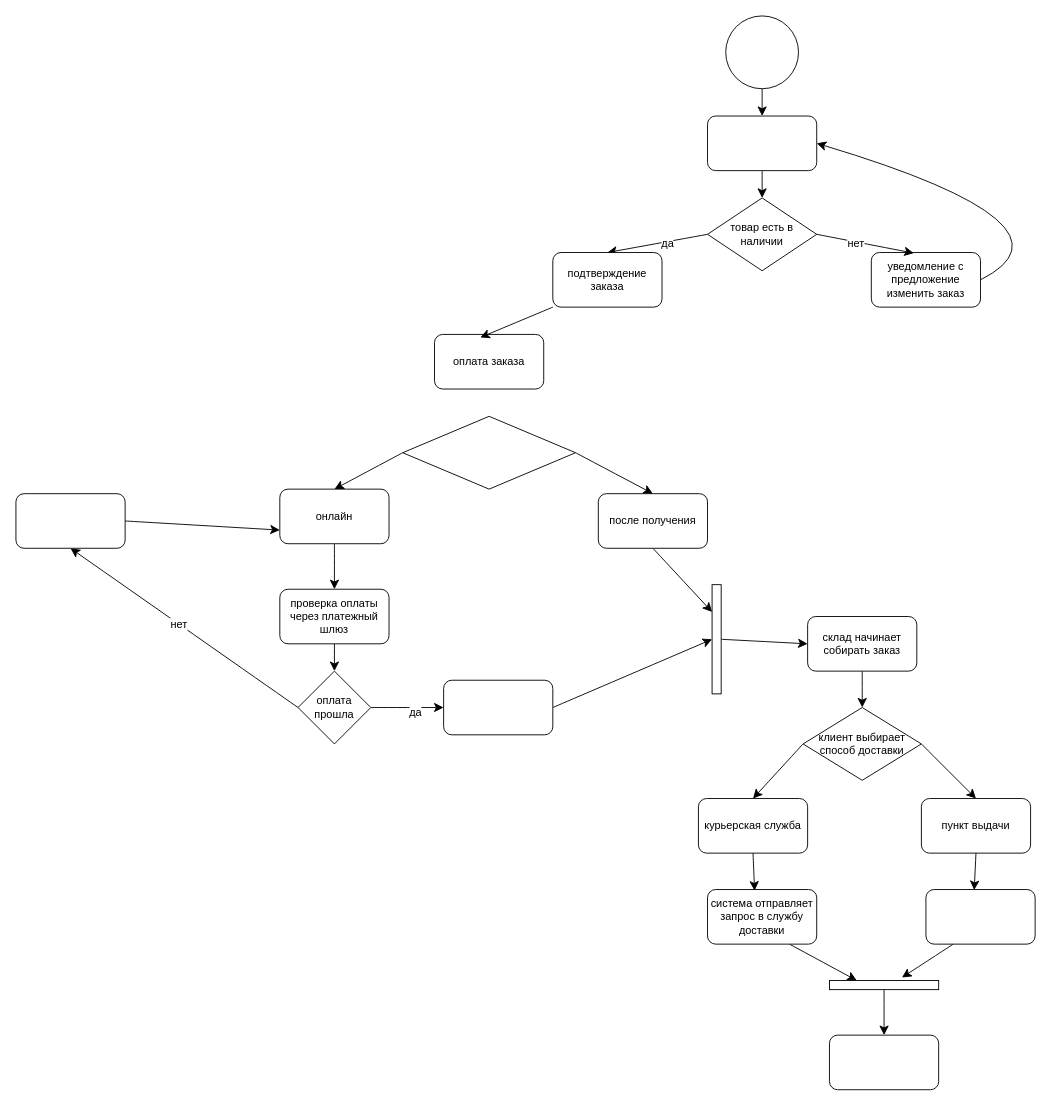
The diagram is 1051 pixels wide and 1106 high, and some of its shapes have lost their labels. Here are the shapes that lost their labels. From the top down, the box of each, then its label:
(707, 115, 817, 171): клиент создает заказ
(402, 415, 576, 489): клиент выбирает способ оплаты
(15, 493, 125, 548): отправляется уведомление с предложением повторить платеж
(443, 679, 553, 735): оплата прошла успешно
(925, 889, 1035, 944): клиенту посылают уведомление о том, что заказ готов
(829, 1034, 939, 1090): клиент подтверждает получение
